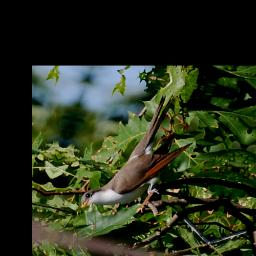Cuckoo: (78, 83, 209, 224)
